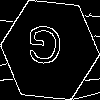G: (25, 25, 64, 74)
